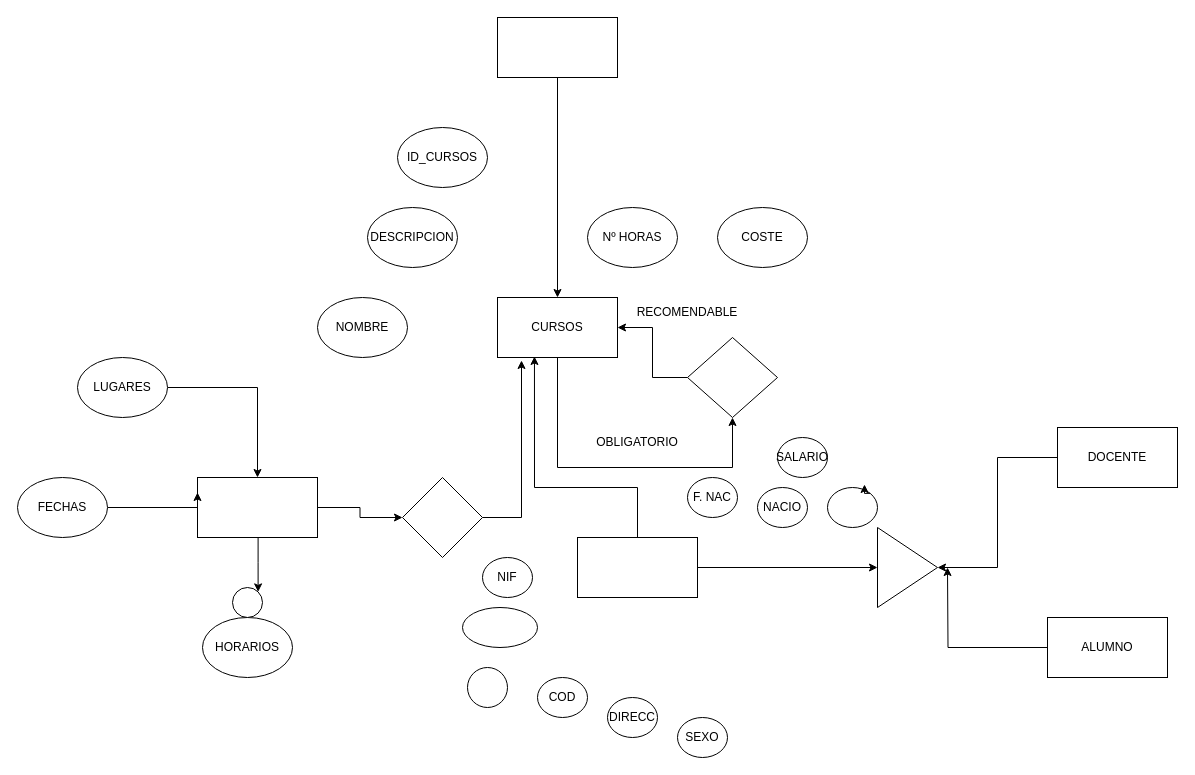
The diagram is 1195 pixels wide and 775 high, and some of its shapes have lost their labels. The centre of each missing label's shape, as x and y in pixels:
"EDIDIONES" belongs at pixel 257 507.
"EMPLEADO" belongs at pixel 637 567.
"EMPRESA" belongs at pixel 557 47.
"FIRMA" belongs at pixel 852 507.
"ID" belongs at pixel 487 687.
"IMPARTE" belongs at pixel 442 517.
"IS A" belongs at pixel 907 567.
"PRE REQUISITO" belongs at pixel 732 377.
"TELEFONO" belongs at pixel 500 627.
